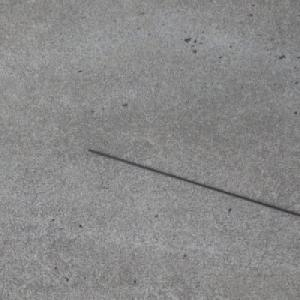LuggagePart: (86, 149, 300, 217)
